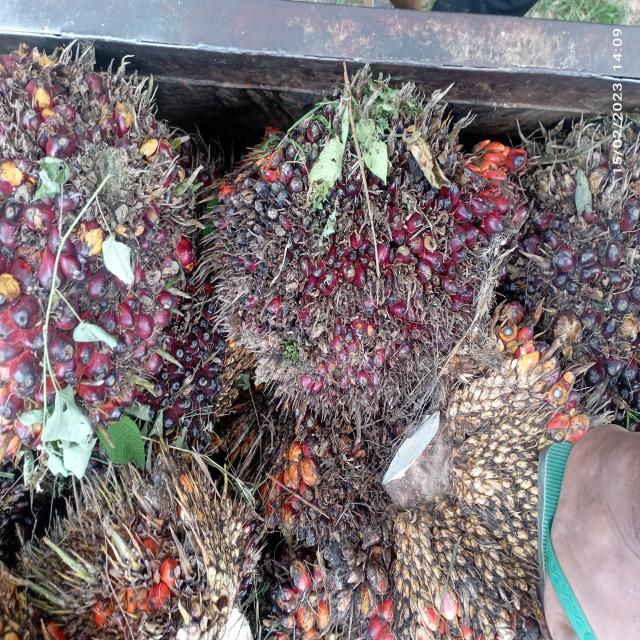fraksi 00: (517, 116, 640, 374)
fraksi 1: (208, 68, 496, 432), (0, 52, 203, 496)
